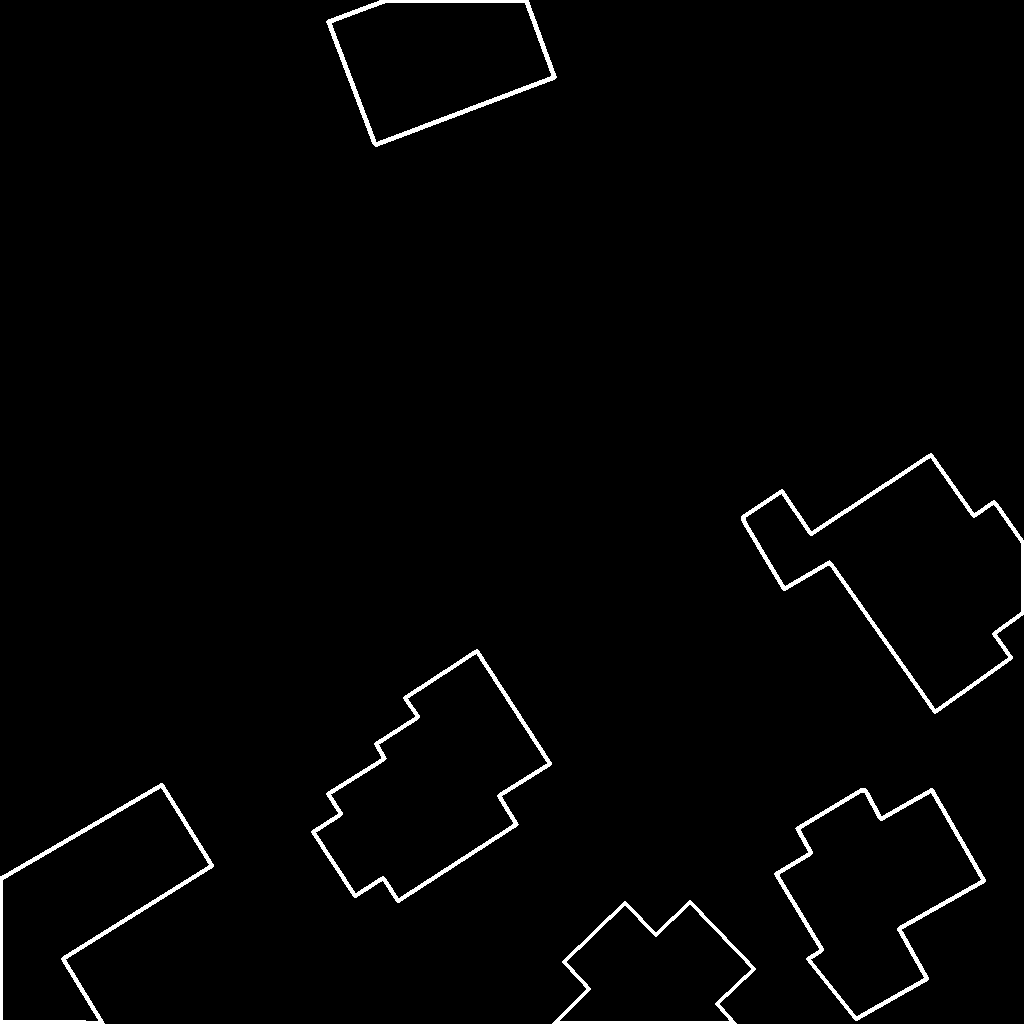building: (742, 455, 1024, 713), (313, 651, 551, 902), (0, 785, 213, 1024), (776, 789, 985, 1020), (328, 0, 556, 146), (554, 902, 755, 1024)
